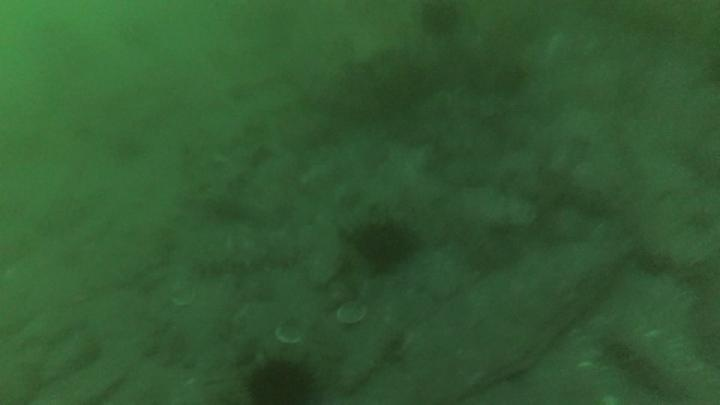echinus: (350, 214, 419, 274), (243, 356, 320, 405), (417, 2, 464, 40)
holothurian: (192, 236, 301, 277)
